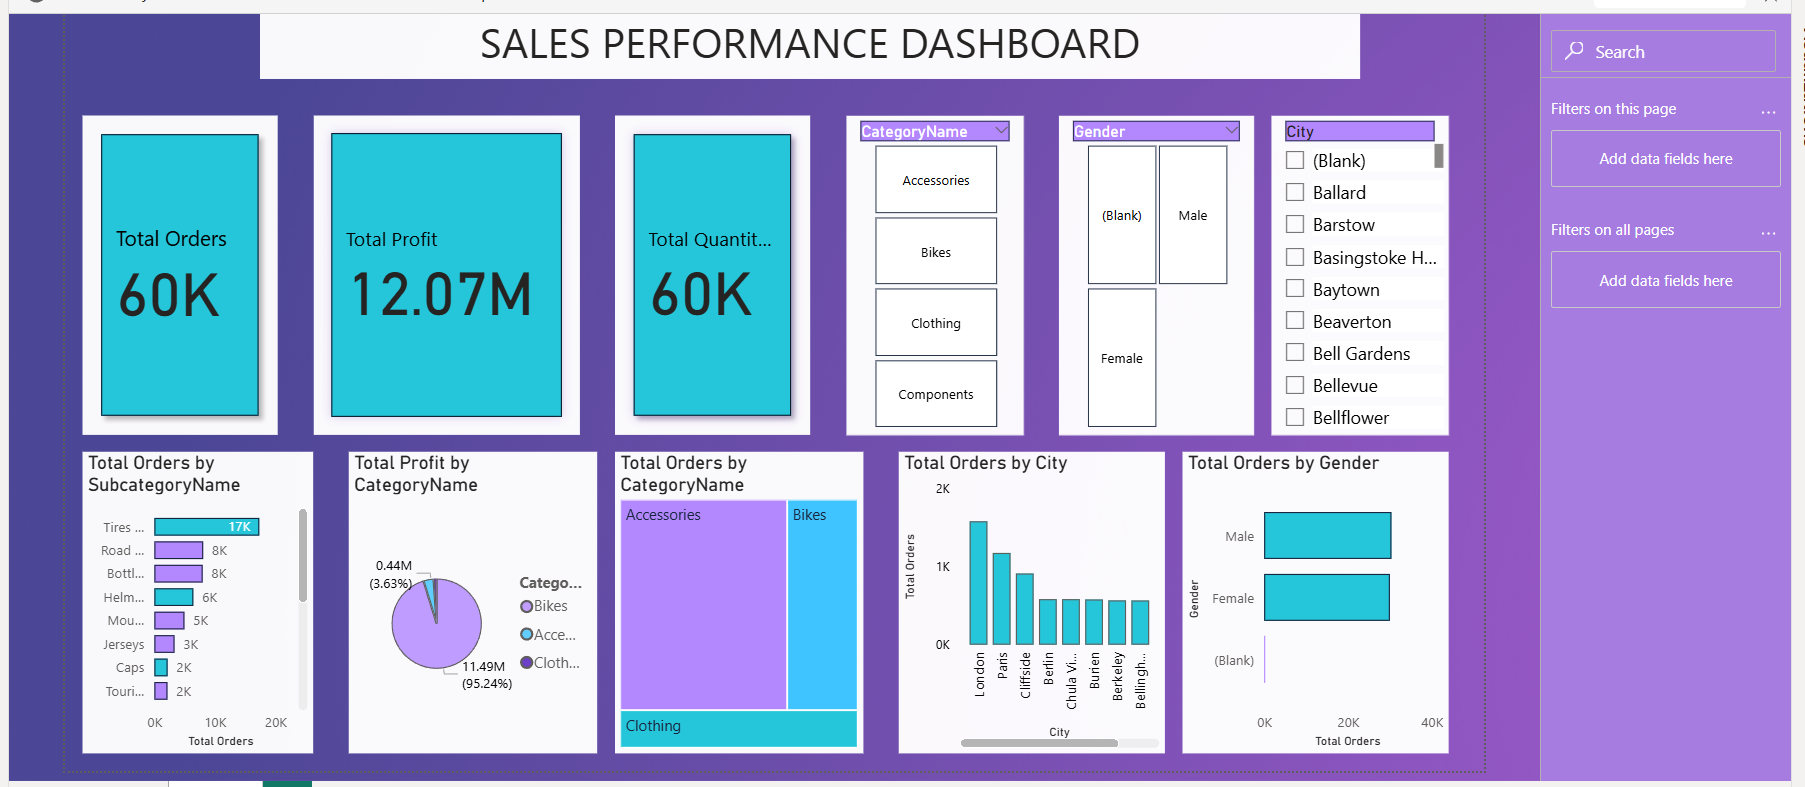

Layout of this report page (visuals, bound fields, positions):
{"tool":"powerbi","page":{"name":"Page 1","canvas":[1280,720],"ordinal":0},"visuals":[{"type":"cardVisual","fields":{"Data":["Sales.Total Orders"]},"box":[16,128,176,288],"z":0},{"type":"cardVisual","fields":{"Data":["Sales.Total Profit"]},"box":[224,128,240,288],"z":1000},{"type":"treemap","fields":{"Group":["Products.CategoryName"],"Values":["Sales.Total Orders"]},"box":[496,432,224,272],"z":2000},{"type":"pieChart","fields":{"Category":["Products.CategoryName"],"Y":["Sales.Total Profit"]},"box":[256,432,224,272],"z":3000},{"type":"cardVisual","fields":{"Data":["Sales.Total Quantity Sold"]},"box":[496,128,176,288],"z":4000},{"type":"clusteredBarChart","fields":{"Category":["Products.SubcategoryName"],"Y":["Sales.Total Orders"]},"box":[16,432,208,272],"z":5000},{"type":"clusteredColumnChart","fields":{"Category":["Customer.City"],"Y":["Sales.Total Orders"]},"box":[752,432,240,272],"z":6000},{"type":"slicer","fields":{"Values":["Customer.City"]},"box":[1088,128,160,288],"z":7000},{"type":"clusteredBarChart","fields":{"Category":["Customer.Gender"],"Y":["Sales.Total Orders"]},"box":[1008,432,240,272],"z":8000},{"type":"slicer","fields":{"Values":["Products.CategoryName"]},"box":[704,128,160,288],"z":9000},{"type":"slicer","fields":{"Values":["Customer.Gender"]},"box":[896,128,176,288],"z":10000},{"type":"textbox","box":[176,32,992,64],"z":11000}]}

Visuals, with their boxes in screenshot pixels (x1, y1, x2, y2):
cardVisual - Sales.Total Orders: bbox(74, 110, 270, 431)
cardVisual - Sales.Total Profit: bbox(306, 110, 574, 431)
treemap - Products.CategoryName x Sales.Total Orders: bbox(609, 449, 859, 752)
pieChart - Products.CategoryName x Sales.Total Profit: bbox(342, 449, 591, 752)
cardVisual - Sales.Total Quantity Sold: bbox(609, 110, 805, 431)
clusteredBarChart - Products.SubcategoryName x Sales.Total Orders: bbox(74, 449, 306, 752)
clusteredColumnChart - Customer.City x Sales.Total Orders: bbox(895, 449, 1162, 752)
slicer - Customer.City: bbox(1269, 110, 1448, 431)
clusteredBarChart - Customer.Gender x Sales.Total Orders: bbox(1180, 449, 1448, 752)
slicer - Products.CategoryName: bbox(841, 110, 1020, 431)
slicer - Customer.Gender: bbox(1055, 110, 1251, 431)
textbox: bbox(253, 3, 1358, 74)
